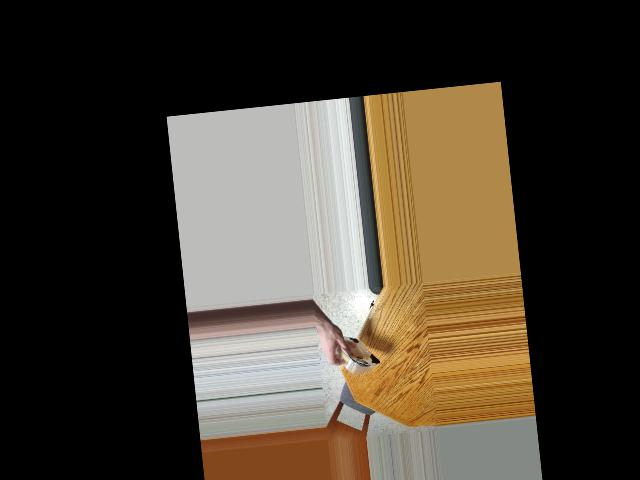cheese: (334, 321, 381, 383)
